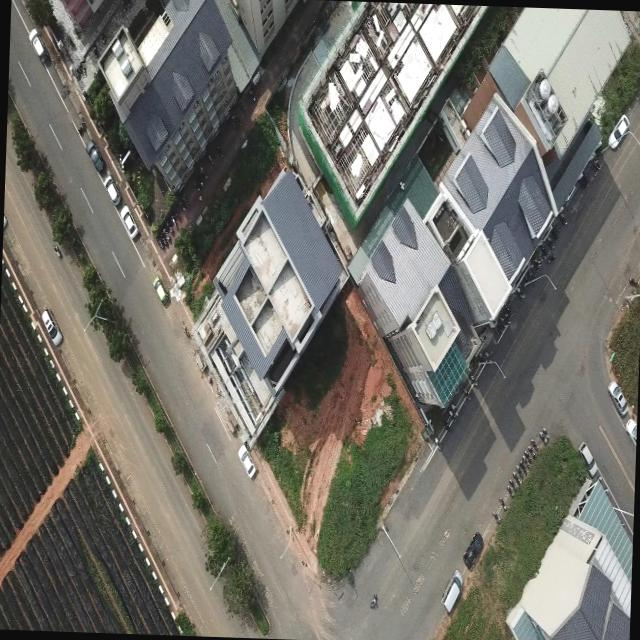bike: (368, 588, 382, 612), (52, 242, 62, 259)
car: (439, 568, 463, 614), (40, 306, 64, 347), (24, 22, 46, 62), (606, 379, 628, 417), (608, 113, 630, 150), (576, 440, 598, 477), (462, 531, 483, 568), (118, 203, 138, 240), (236, 443, 256, 479), (84, 138, 104, 172), (102, 173, 121, 206), (152, 275, 168, 304), (625, 417, 636, 444)
